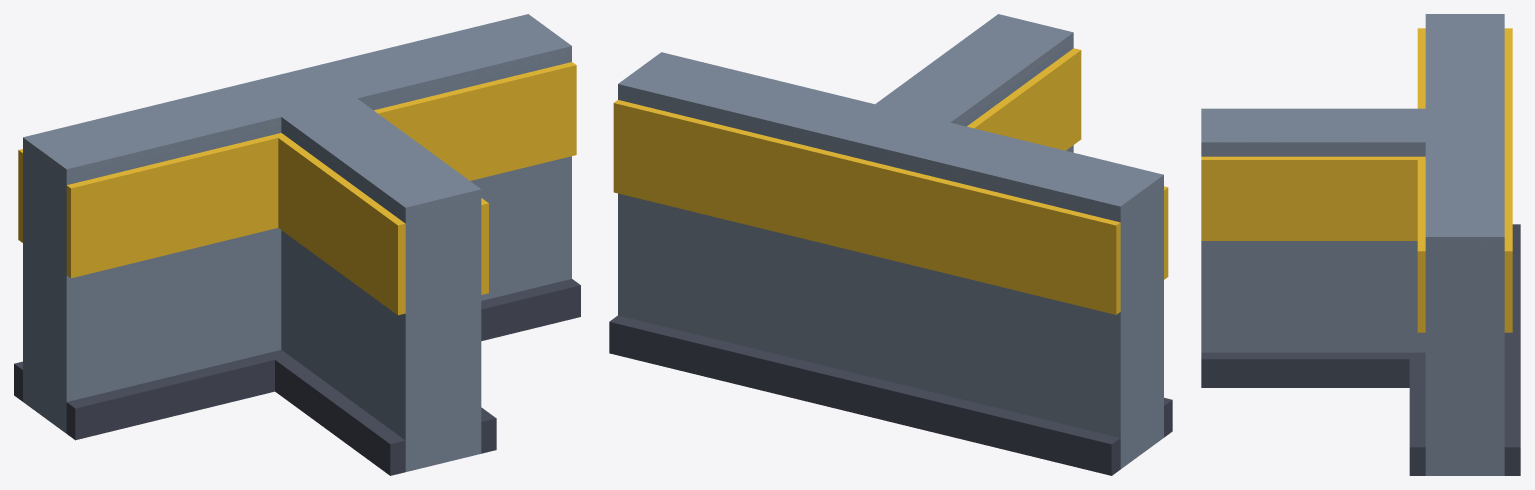
File: partition-tee.glb
The picture shows the model from 3 angles, left to right: view 1: azimuth 30°, elevation 25°; view 2: azimuth 150°, elevation 25°; view 3: azimuth 270°, elevation 25°; orthographic projection. The views are drawn at different scales.
Parts seen in each view (by area): view 1: partition-tee; view 2: partition-tee; view 3: partition-tee.
Part boxes in pixels (x1,y1,x2,y2): partition-tee: [14, 14, 580, 475]; partition-tee: [609, 14, 1172, 475]; partition-tee: [1201, 14, 1520, 475].
Size of the model in its own units: 1 by 0.5 by 0.605.
Materials: 1 (1 with a texture image).
